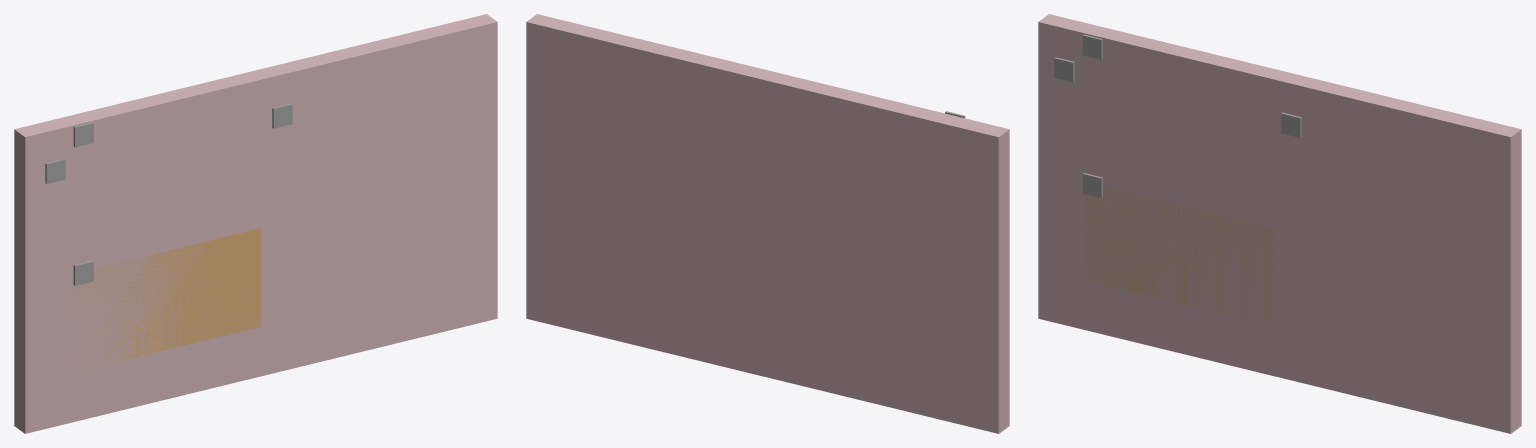
The model's file is board.glb.
The picture shows the model from 3 angles, left to right: view 1: azimuth 30°, elevation 25°; view 2: azimuth 150°, elevation 25°; view 3: azimuth 330°, elevation 25°; orthographic projection.
Parts seen in each view (by area): view 1: Substrate_Layer_0, Substrate_Layer_1; view 2: Substrate_Layer_0; view 3: Substrate_Layer_0, Substrate_Layer_1.
Part boxes in pixels (<box>): Substrate_Layer_0: <box>14,14,497,433</box>; Substrate_Layer_1: <box>72,228,261,371</box>; Substrate_Layer_0: <box>526,14,1009,433</box>; Substrate_Layer_0: <box>1038,14,1521,433</box>; Substrate_Layer_1: <box>1085,187,1274,325</box>.
Bounding box in the file's own units: 0.05 × 0.03 × 0.0025.
